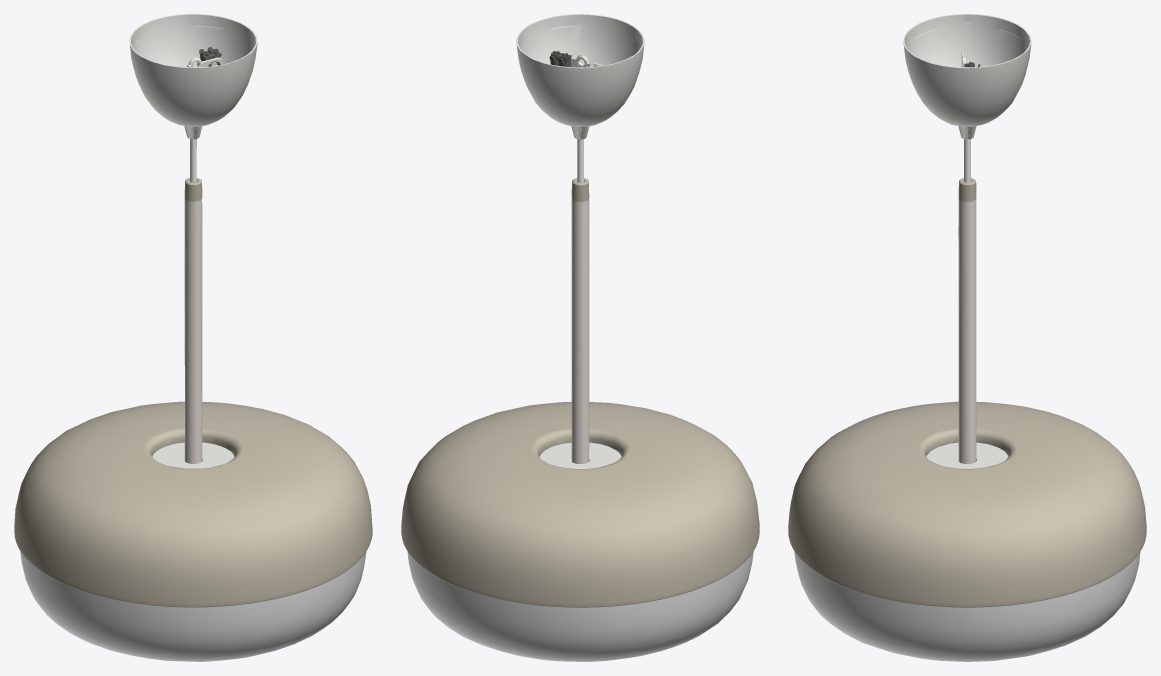
The model's file is blasverk_lampa_wiszaca_60520903.glb.
3 renders of one model, left to right at view 1: azimuth 30°, elevation 25°; view 2: azimuth 150°, elevation 25°; view 3: azimuth 270°, elevation 25°, orthographic.
Visible parts, largest first — view 1: blasverk_lampa_wiszaca_60520903; view 2: blasverk_lampa_wiszaca_60520903; view 3: blasverk_lampa_wiszaca_60520903.
Part boxes in pixels (<box>): blasverk_lampa_wiszaca_60520903: <box>14,14,372,661</box>; blasverk_lampa_wiszaca_60520903: <box>401,14,759,661</box>; blasverk_lampa_wiszaca_60520903: <box>788,14,1146,661</box>.
Bounding box in the file's own units: 0.3702 × 0.6473 × 0.3701.
Materials: 1 (1 with a texture image).
